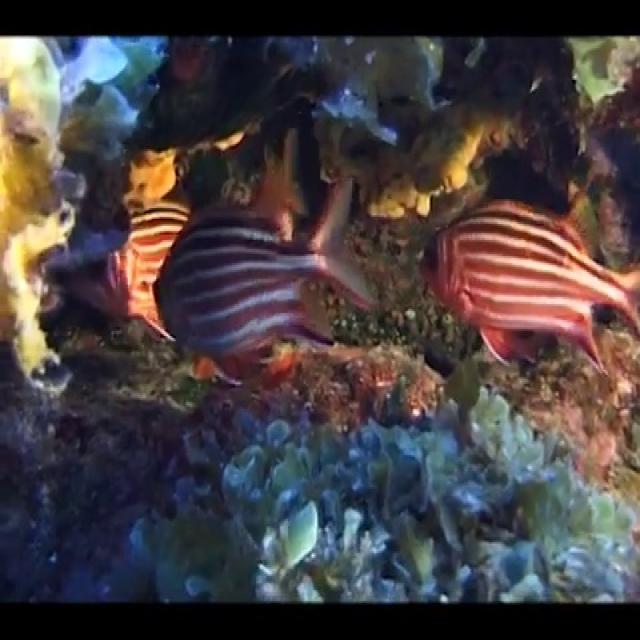Asker Baligi: (150, 170, 378, 388), (417, 194, 639, 378)
